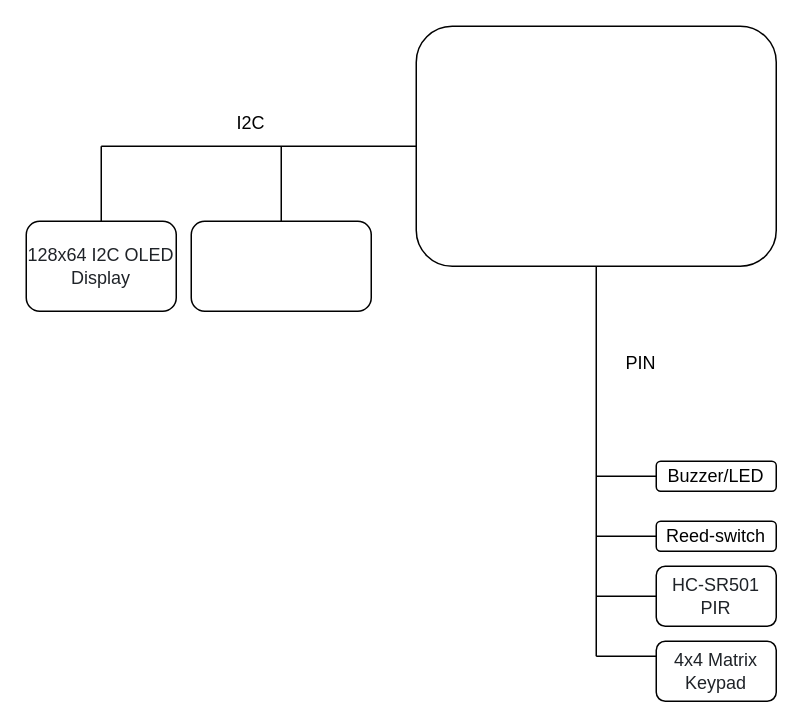
Some shapes in this 803 by 728 pixel diagram are drawn without their labels. The shapes that lost their labels are listed below. From the top down, each one's centre as x and y in pixels, then its label:
pixel 595 145: STM32 F401 NUCLEO Development board
pixel 280 265: ESP32 Wemos S2 Mini
